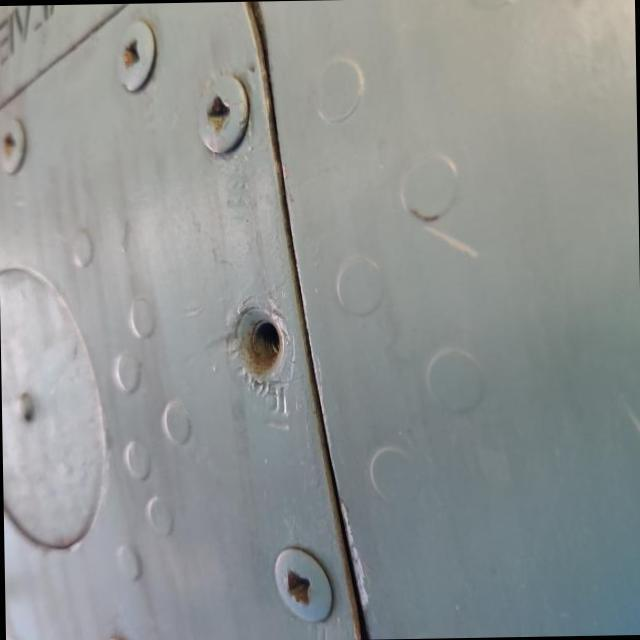Missing Fastener: (222, 307, 284, 397)
